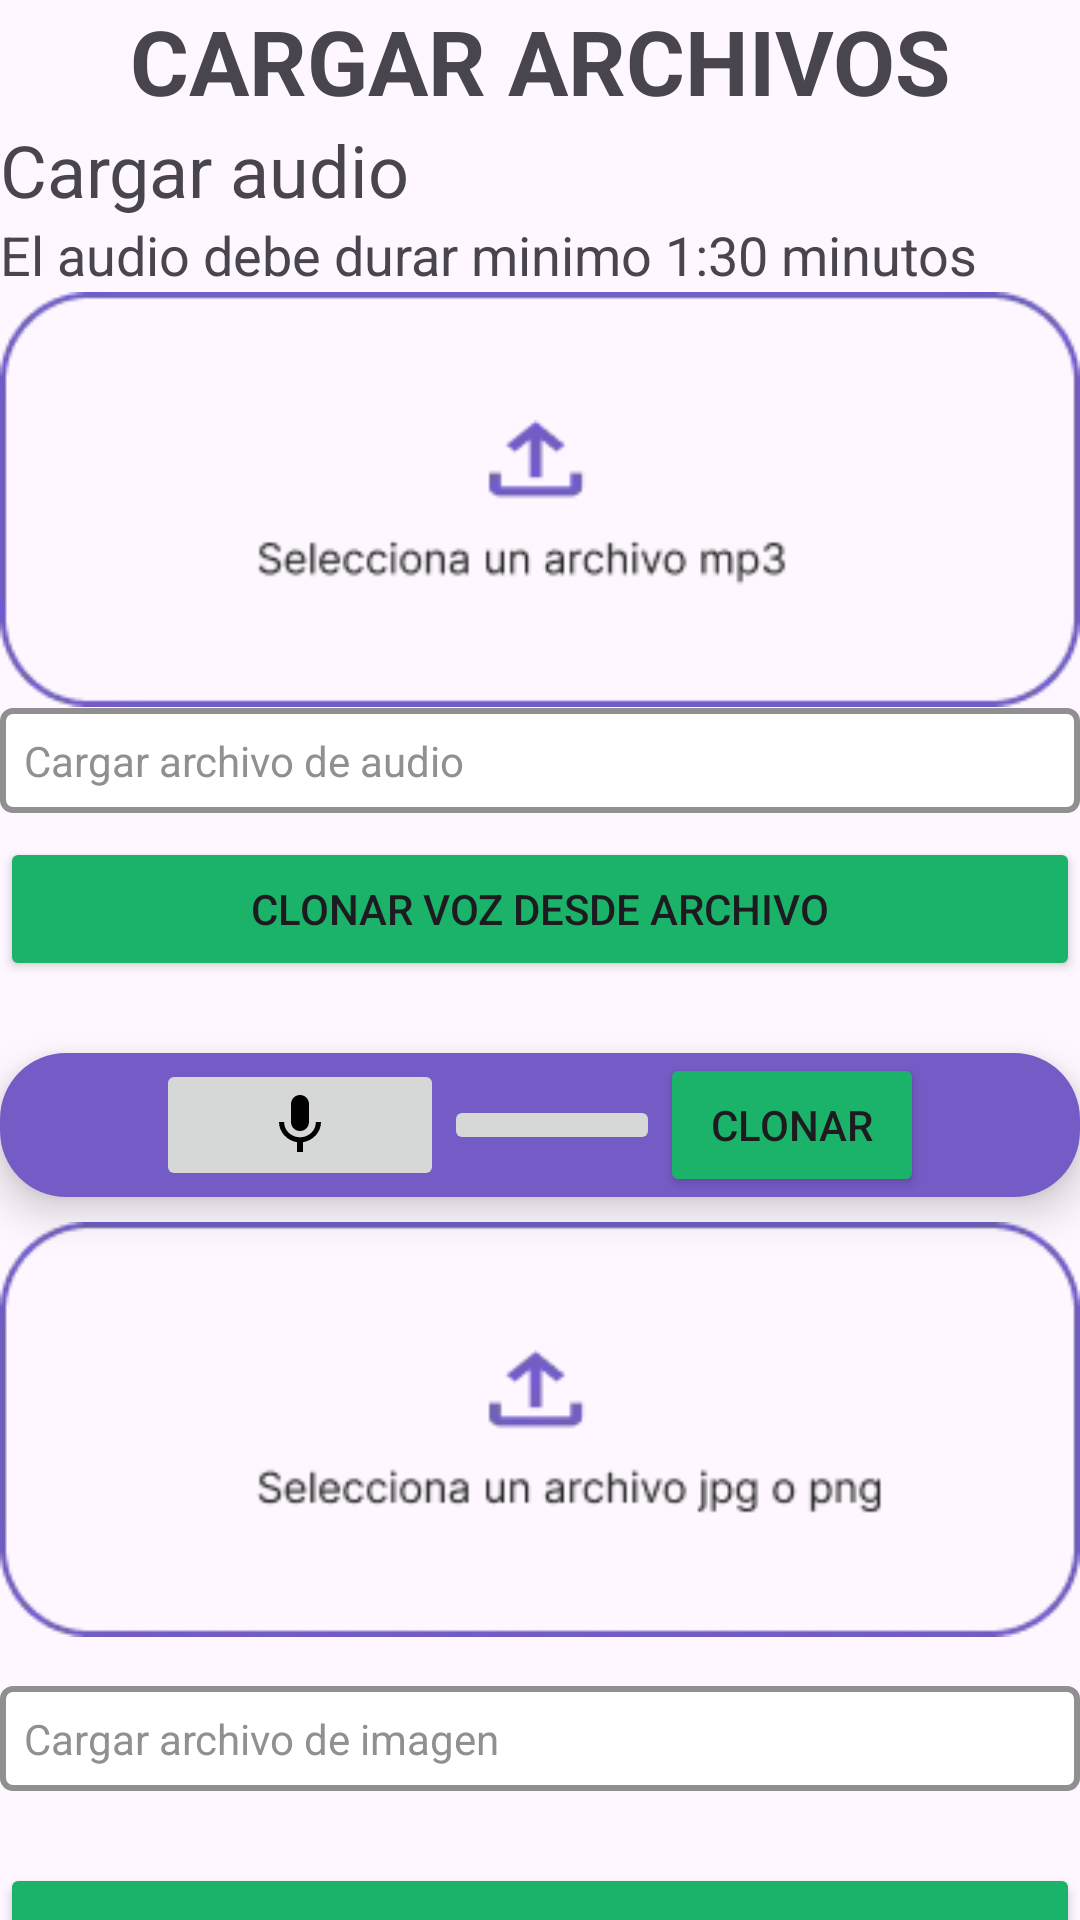

Where icons sit on this 1080w x 1920h app screen, as (x1, y1, x2, y2):
mic: (168, 1077, 432, 1173)
